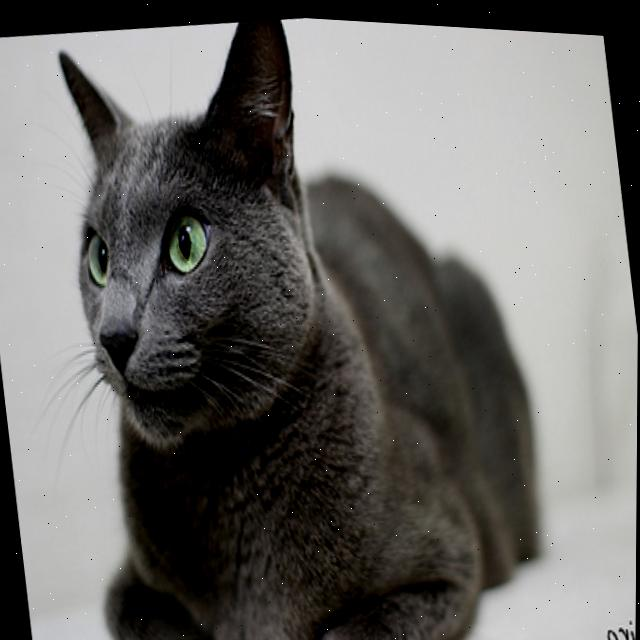Russian Blue: (28, 1, 567, 640)
